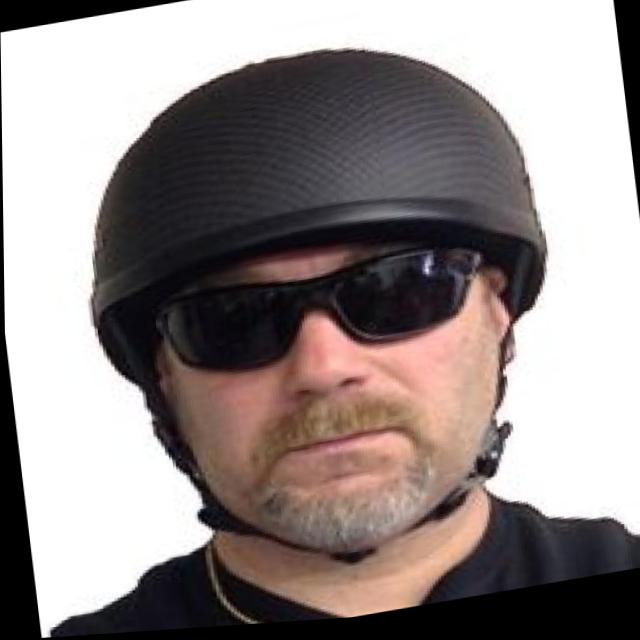helmet: (60, 20, 580, 608)
